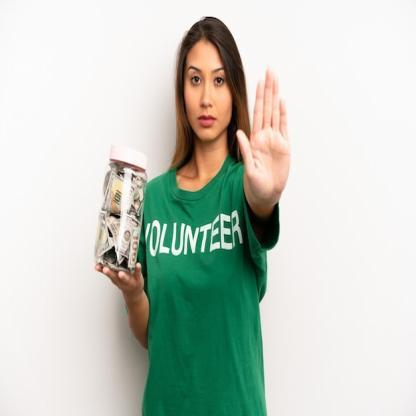stop: (234, 64, 292, 206)
